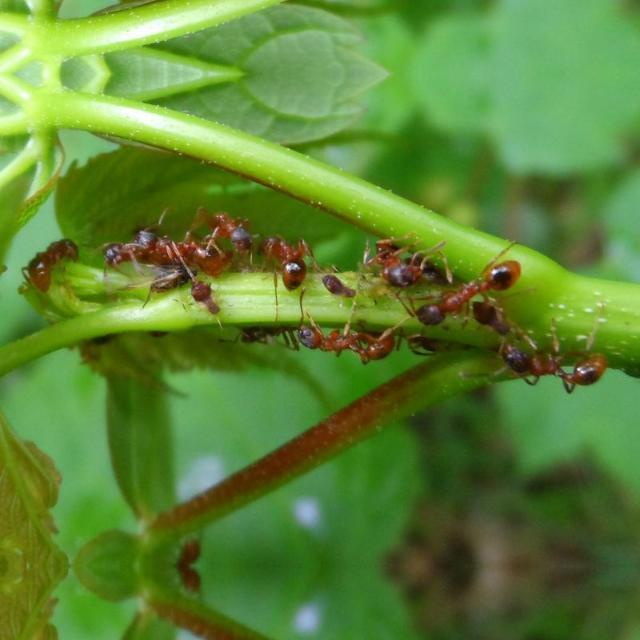Myrmica: (404, 256, 536, 330), (278, 312, 414, 363), (488, 336, 612, 389), (131, 216, 217, 274), (258, 223, 316, 293), (24, 226, 84, 288), (210, 202, 264, 264), (371, 228, 414, 286)
